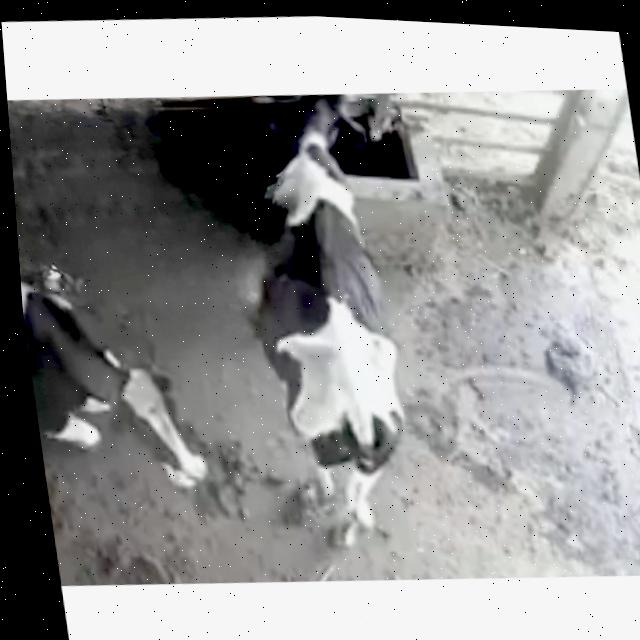drink: (245, 81, 449, 223)
